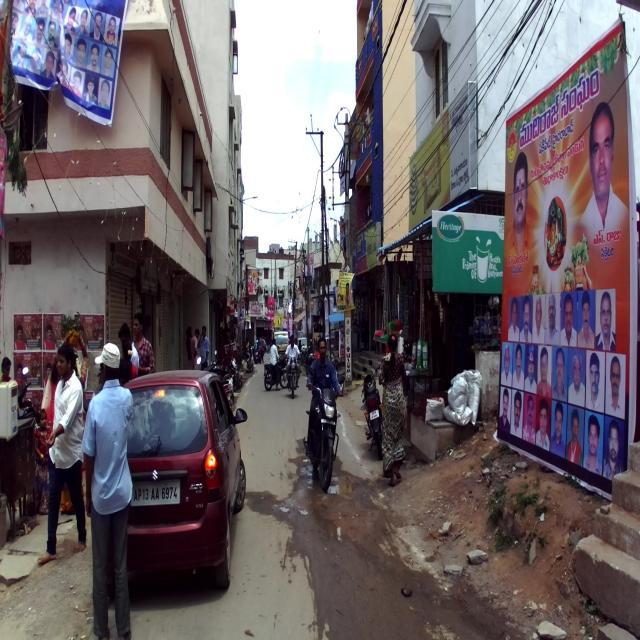pothole: (290, 451, 370, 538)
